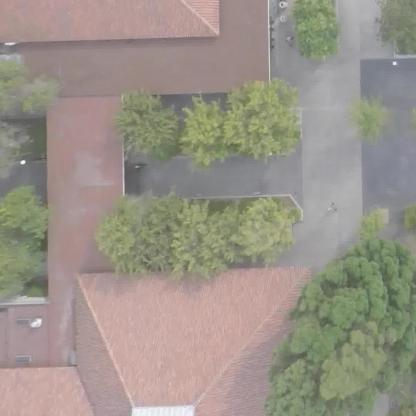Pedestrian: (282, 31, 300, 52), (317, 197, 334, 217)
